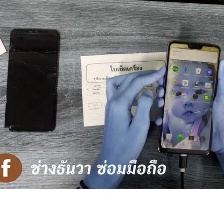phone: (153, 37, 224, 160), (2, 23, 63, 137)
